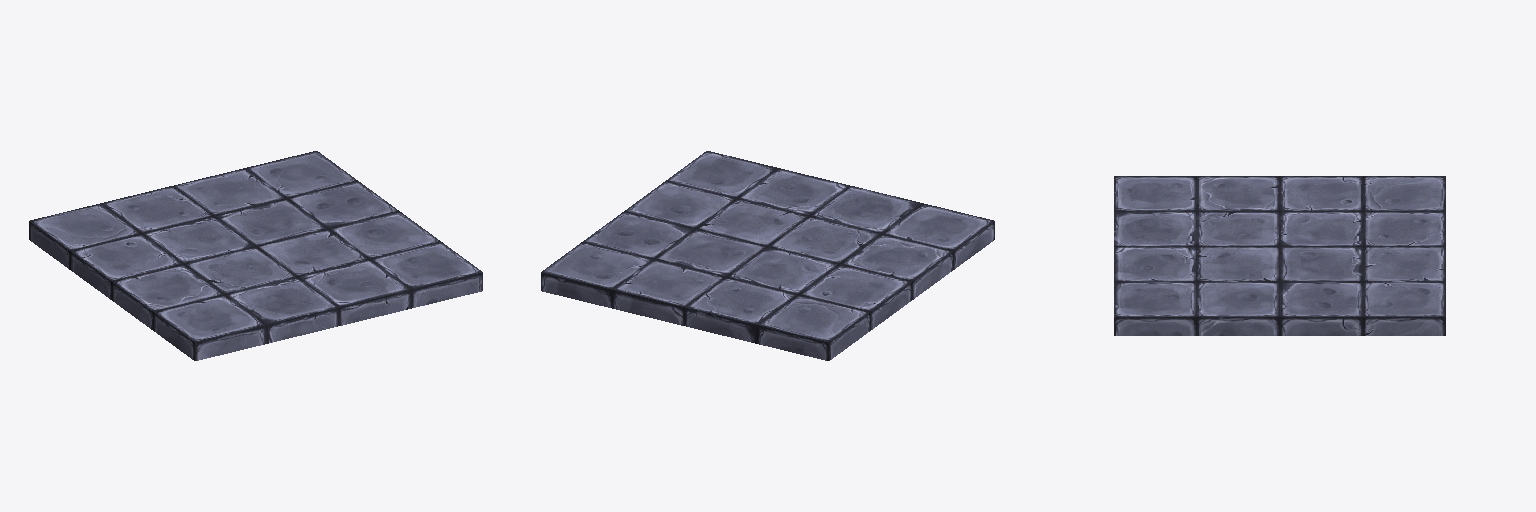
3 renders of one model, left to right at view 1: azimuth 30°, elevation 25°; view 2: azimuth 150°, elevation 25°; view 3: azimuth 270°, elevation 25°, orthographic.
Visible parts, largest first — view 1: Mesh1 Group1 Model; view 2: Mesh1 Group1 Model; view 3: Mesh1 Group1 Model.
Part boxes in pixels (left/top/right/bottom): Mesh1 Group1 Model: left=29, top=151, right=482, bottom=360; Mesh1 Group1 Model: left=541, top=151, right=994, bottom=360; Mesh1 Group1 Model: left=1114, top=176, right=1445, bottom=335.
Bounding box in the file's own units: 157 × 9.84 × 157.
Materials: 1 (1 with a texture image).